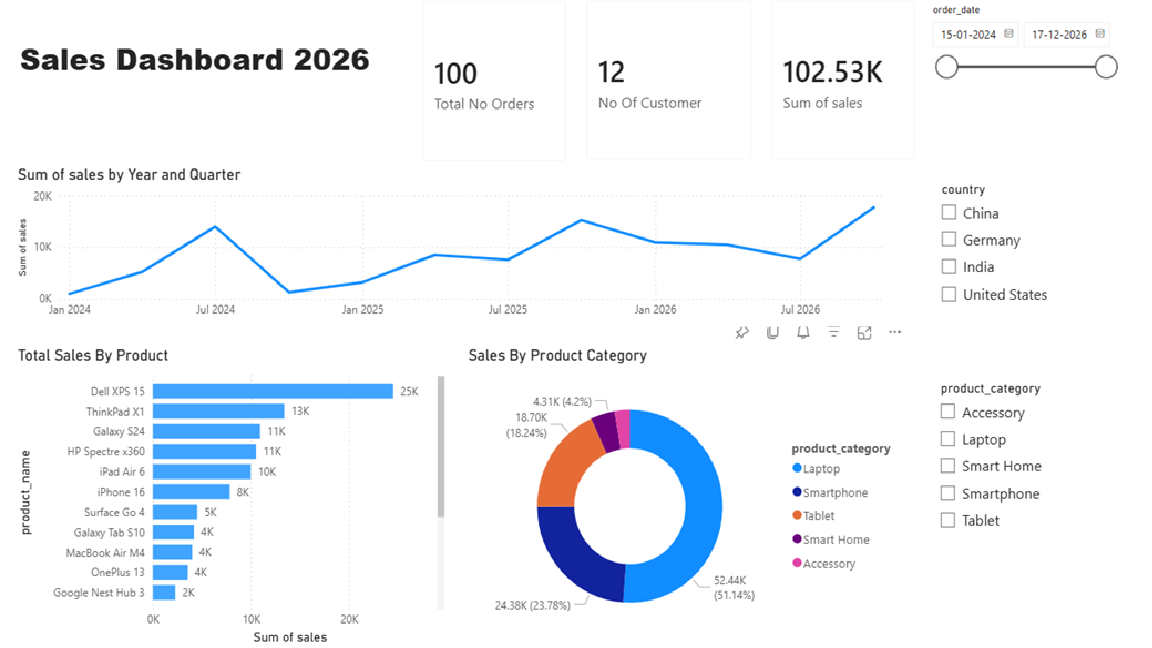

Layout of this report page (visuals, bound fields, positions):
{"tool":"powerbi","page":{"name":"Page 1","canvas":[1280,720],"ordinal":0},"visuals":[{"type":"barChart","title":"Total Sales By Product","fields":{"Category":["orders.product_name"],"Y":["Sum(orders.sales)"]},"box":[29.3,395,485.5,325.3],"z":0},{"type":"donutChart","title":"Sales By Product Category","fields":{"Category":["orders.product_category"],"Y":["Sum(orders.sales)"]},"box":[531.9,395,496.5,325.3],"z":1000},{"type":"cardVisual","fields":{"Data":["Count(orders.order_id)"]},"box":[469.6,8.6,194.4,206.7],"z":2000},{"type":"cardVisual","fields":{"Data":["Count(orders.customer_id)"]},"box":[651.8,7.3,218.9,206.7],"z":3000},{"type":"cardVisual","fields":{"Data":["Sum(orders.sales)"]},"box":[858.4,7.3,194.4,206.7],"z":4000},{"type":"lineChart","fields":{"Category":["orders.order_date.Variation.Date Hierarchy.Year","orders.order_date.Variation.Date Hierarchy.Quarter","orders.order_date.Variation.Date Hierarchy.Month","orders.order_date.Variation.Date Hierarchy.Day"],"Y":["Sum(orders.sales)"]},"box":[29.3,201.8,986.8,173.6],"z":5000},{"type":"slicer","fields":{"Values":["customers.country"]},"box":[1051.6,214,157.7,149.2],"z":6000},{"type":"slicer","fields":{"Values":["orders.product_category"]},"box":[1050.4,426.8,157.7,190.8],"z":7000},{"type":"slicer","fields":{"Values":["orders.order_date"]},"box":[1041.9,23.2,227.4,148],"z":8000},{"type":"textbox","box":[0,7.3,485.5,178.5],"z":9000}]}

Visuals, with their boxes in screenshot pixels (x1, y1, x2, y2), scaled from the page's 1280x720 canvas onto the 1152x648 screenshot:
"Total Sales By Product" barChart: BBox(26, 356, 463, 647)
"Sales By Product Category" donutChart: BBox(479, 356, 926, 647)
cardVisual - Count(orders.order_id): BBox(423, 8, 598, 194)
cardVisual - Count(orders.customer_id): BBox(587, 7, 784, 193)
cardVisual - Sum(orders.sales): BBox(773, 7, 948, 193)
lineChart - orders.order_date.Variation.Date Hierarchy.Year x orders.order_date.Variation.Date Hierarchy.Quarter: BBox(26, 182, 914, 338)
slicer - customers.country: BBox(946, 193, 1088, 327)
slicer - orders.product_category: BBox(945, 384, 1087, 556)
slicer - orders.order_date: BBox(938, 21, 1142, 154)
textbox: BBox(0, 7, 437, 167)
